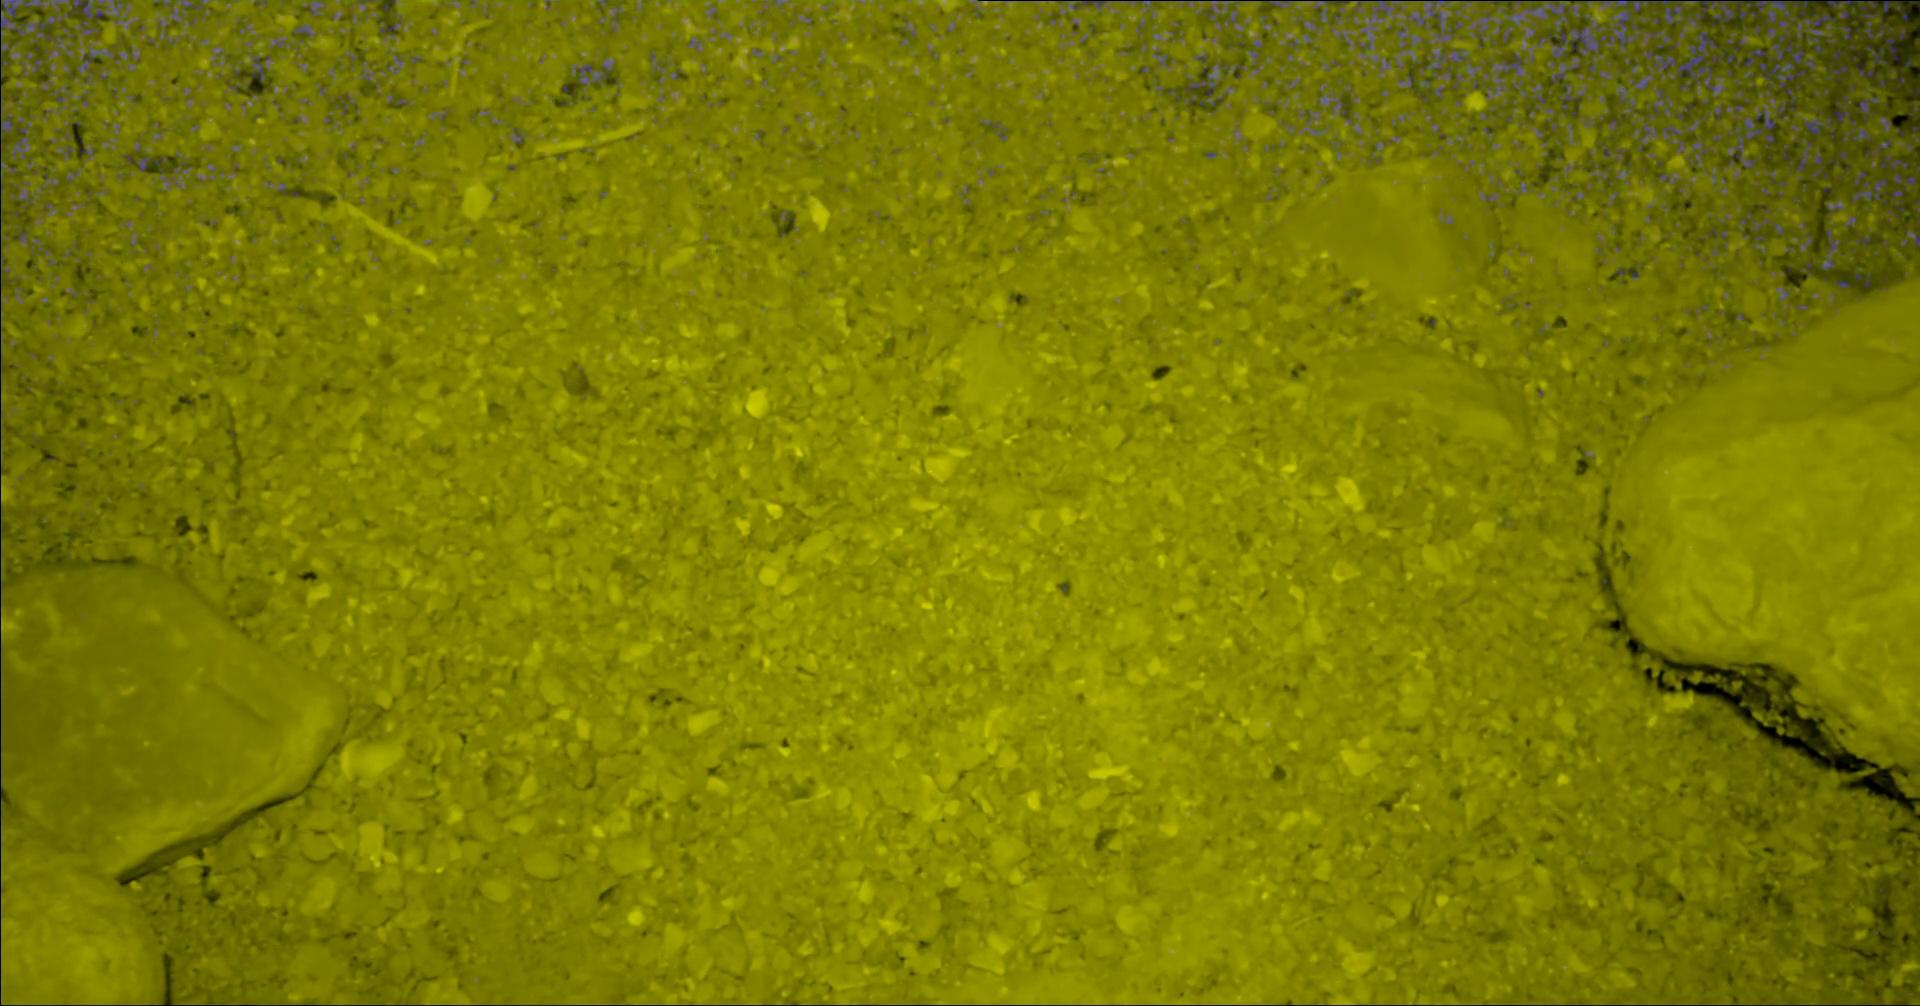ant: (1708, 103, 1775, 169), (0, 86, 33, 211), (1467, 52, 1528, 93), (1634, 89, 1683, 137), (1826, 0, 1883, 37), (1769, 41, 1815, 86), (1410, 48, 1469, 79), (1796, 11, 1837, 53), (76, 47, 121, 83), (1661, 116, 1705, 151), (1183, 65, 1222, 105), (1789, 138, 1827, 179), (1757, 81, 1796, 119), (1351, 0, 1410, 20), (1070, 0, 1215, 8), (1855, 47, 1887, 79), (1685, 135, 1716, 164), (573, 62, 612, 84), (1850, 178, 1887, 201), (1558, 84, 1583, 116), (0, 216, 8, 320), (1820, 229, 1839, 269), (168, 0, 203, 22), (1803, 116, 1835, 138), (1615, 84, 1636, 118), (1470, 10, 1491, 41), (1843, 119, 1872, 140), (378, 11, 401, 36), (1865, 138, 1892, 159), (1857, 97, 1879, 119), (1223, 0, 1243, 24), (1832, 95, 1851, 121), (1823, 61, 1846, 81), (1601, 144, 1624, 163), (250, 55, 265, 81), (1881, 154, 1907, 168), (1396, 23, 1411, 47), (1531, 83, 1544, 109), (1511, 76, 1526, 97), (1310, 8, 1327, 25), (1257, 0, 1295, 8), (1312, 0, 1350, 8), (1658, 173, 1679, 187), (110, 0, 123, 22), (1703, 226, 1724, 239), (1884, 38, 1897, 58), (1841, 25, 1858, 39), (1826, 199, 1843, 213), (1905, 230, 1919, 246), (293, 24, 311, 36), (136, 156, 149, 171), (0, 643, 1, 788), (1879, 117, 1890, 131), (0, 337, 1, 392), (0, 504, 1, 560)
